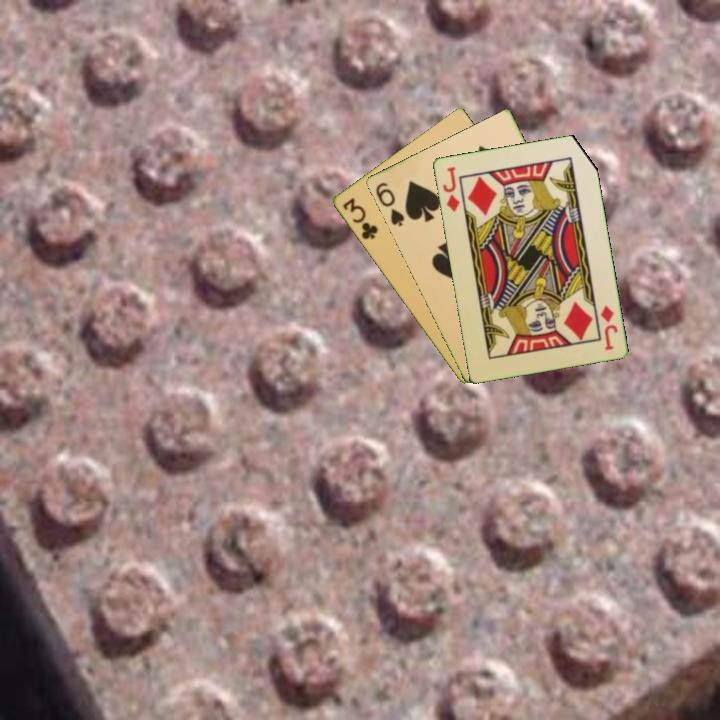3c: (338, 194, 381, 242)
6s: (372, 178, 407, 230)
Jd: (439, 163, 462, 215), (597, 302, 620, 353)
